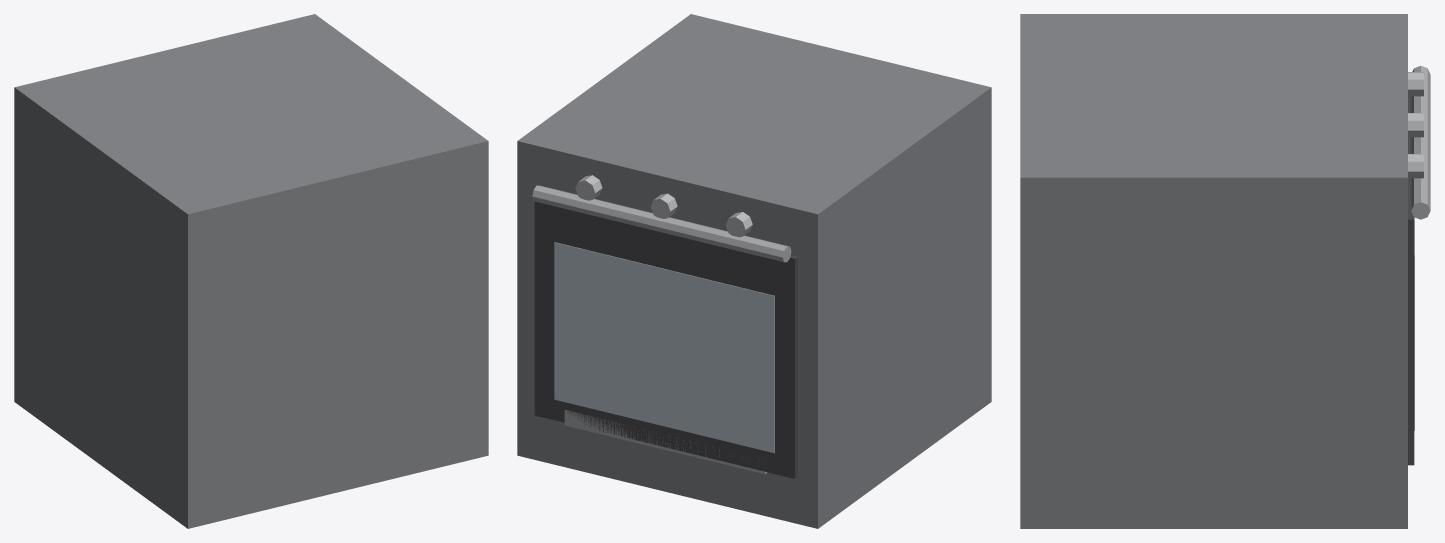
File: eletro_forno.glb
The picture shows the model from 3 angles, left to right: view 1: azimuth 30°, elevation 25°; view 2: azimuth 150°, elevation 25°; view 3: azimuth 270°, elevation 25°; orthographic projection. The views are drawn at different scales.
Visible parts, largest first — view 1: ELETRO_FORNO_v01; view 2: ELETRO_FORNO_v01; view 3: ELETRO_FORNO_v01.
Boxes of the visible parts, box(x1,y1,x2,y2) form: ELETRO_FORNO_v01: box(14, 14, 488, 528); ELETRO_FORNO_v01: box(517, 14, 991, 528); ELETRO_FORNO_v01: box(1020, 14, 1430, 528).
Size of the model in its own units: 0.6 by 0.6 by 0.635.
